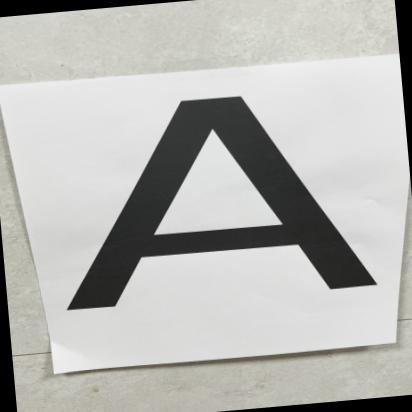seat: (17, 65, 412, 323)
